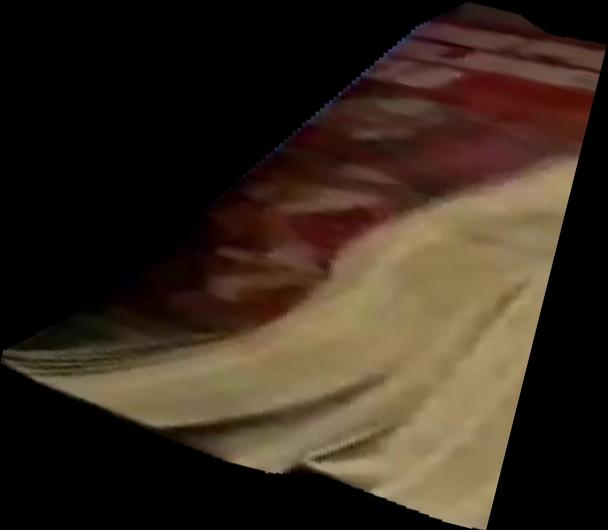backward: (1, 1, 608, 530)
